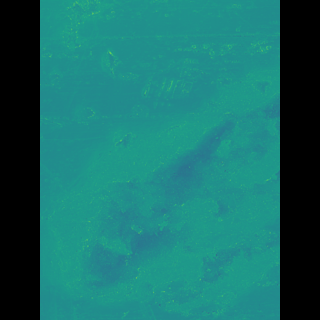Loch: (73, 72, 250, 319)
